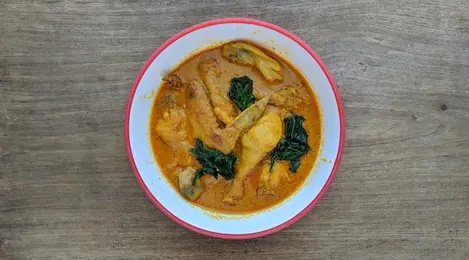gulai_ayam: (136, 37, 337, 235)
